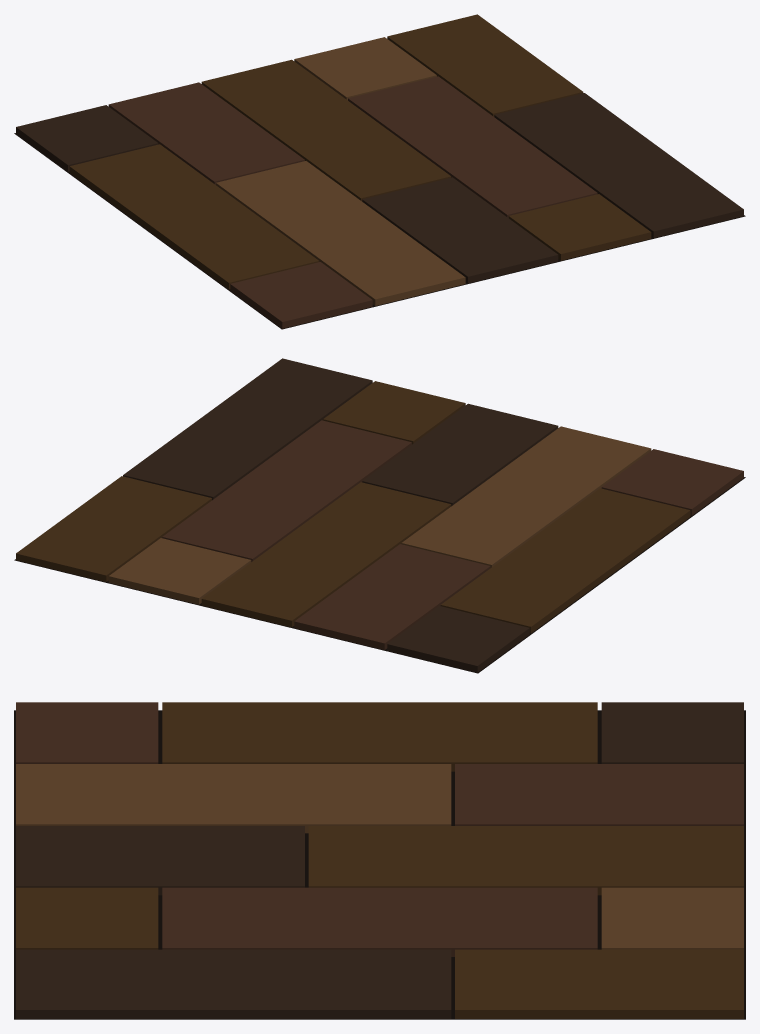
The model's file is SM_Floor.fbx.
The picture shows the model from 3 angles, top to bottom: view 1: azimuth 30°, elevation 25°; view 2: azimuth 150°, elevation 25°; view 3: azimuth 270°, elevation 25°; orthographic projection. The views are drawn at different scales.
Visible parts, largest first — view 1: Floor; view 2: Floor; view 3: Floor.
Boxes of the visible parts, left/top/right/bottom form: Floor: left=14, top=14, right=745, bottom=329; Floor: left=14, top=358, right=745, bottom=673; Floor: left=14, top=702, right=745, bottom=1019.
Bounding box in the file's own units: 100 × 1.37 × 100.
